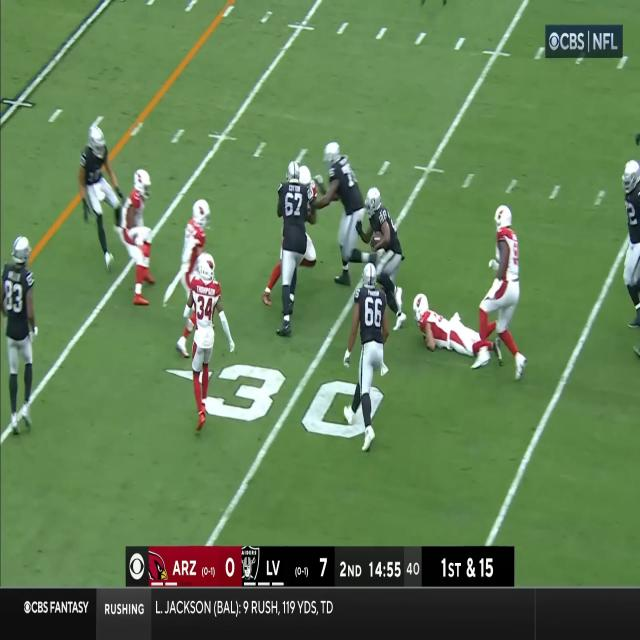football: (370, 234, 383, 249)
players: (471, 205, 527, 384), (190, 254, 236, 435), (262, 165, 318, 307), (354, 186, 408, 331), (343, 262, 380, 456), (412, 294, 506, 369), (80, 124, 122, 274), (4, 238, 35, 437), (175, 197, 213, 359), (316, 143, 356, 289), (278, 161, 310, 339), (120, 170, 156, 306), (618, 161, 640, 331)
